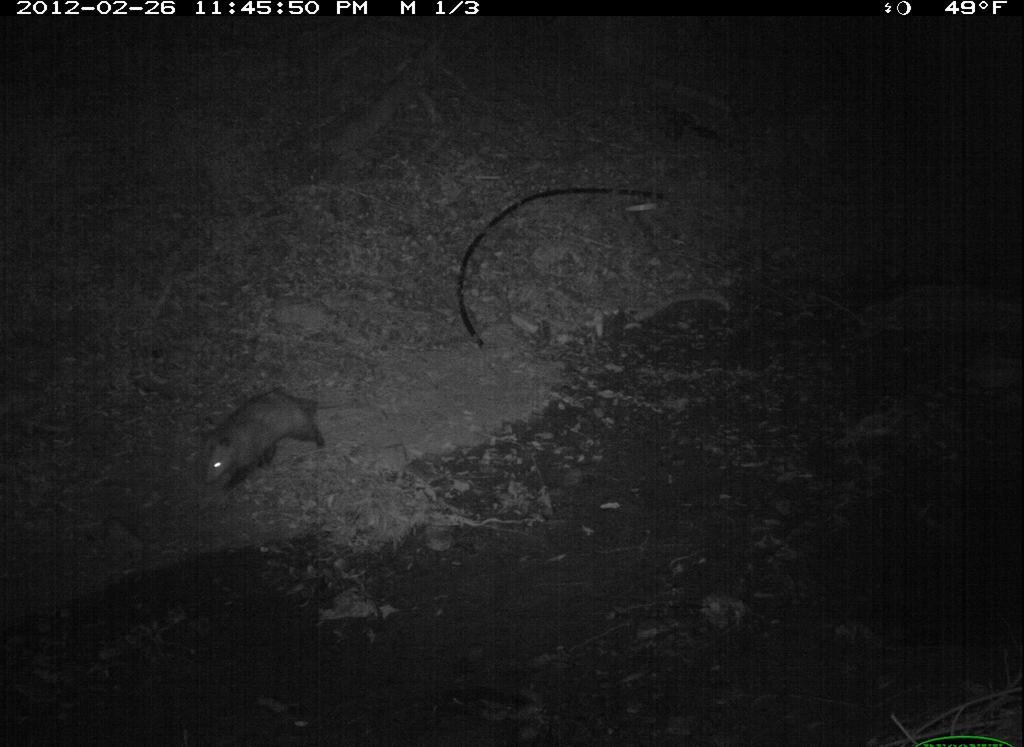opossum: (186, 382, 347, 498)
